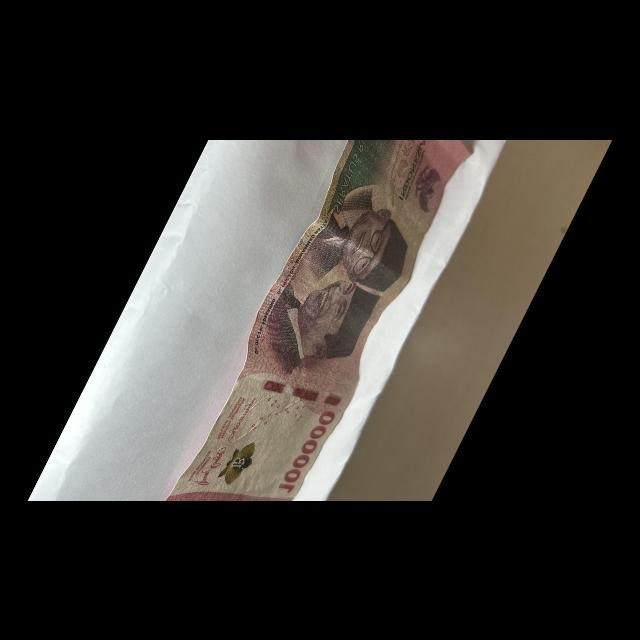Palsu-100k: (161, 83, 482, 556)
Tinta-Palsu-100k: (215, 432, 264, 491)
